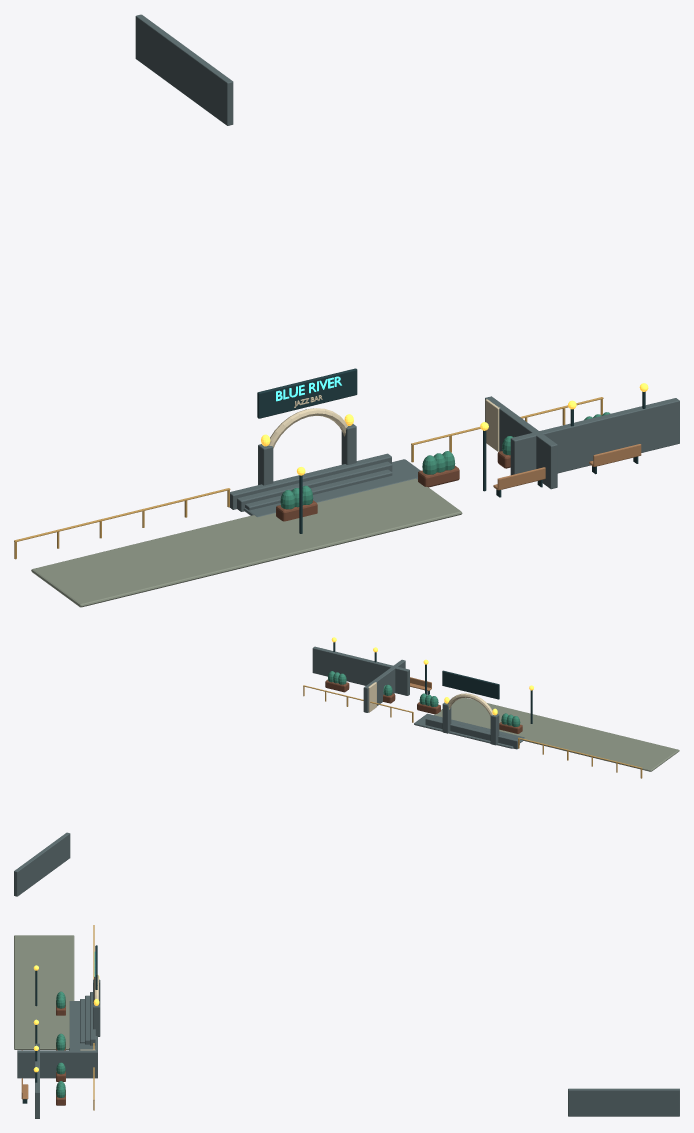
File: riverwalk_static.glb
3 views of the same model, one above another, from view 1: azimuth 30°, elevation 25°; view 2: azimuth 150°, elevation 25°; view 3: azimuth 270°, elevation 25° (orthographic). The views are drawn at different scales.
Visible parts, largest first — view 1: VIS_Riverwalk_Promenade, VIS_Shore_south_hide_wall_ew, VIS_Shore_east_hide_wall, VIS_MoonGate_SignBoard, VIS_Shore_south_hide_wall_ns, VIS_Riverwalk_Terrace, VIS_EntranceStep_02, VIS_EntranceStep_01, VIS_EntranceStep_00; view 2: VIS_Riverwalk_Promenade, VIS_Shore_south_hide_wall_ew, VIS_Shore_east_hide_wall, VIS_MoonGate_SignBoard, VIS_EntranceStep_02, VIS_Shore_south_hide_wall_ns, VIS_Riverwalk_Terrace; view 3: VIS_Riverwalk_Promenade, VIS_Shore_east_hide_wall, VIS_Shore_south_hide_wall_ns, VIS_Riverwalk_Terrace, VIS_Shore_south_hide_wall_ew.
Boxes of the visible parts, box(x1,y1,x2,y2) form: VIS_Riverwalk_Promenade: box(31, 478, 462, 607); VIS_Shore_south_hide_wall_ew: box(510, 398, 679, 475); VIS_Shore_east_hide_wall: box(135, 14, 233, 125); VIS_MoonGate_SignBoard: box(257, 368, 357, 418); VIS_Shore_south_hide_wall_ns: box(485, 396, 557, 489); VIS_Riverwalk_Terrace: box(243, 459, 420, 517); VIS_EntranceStep_02: box(229, 453, 391, 509); VIS_EntranceStep_01: box(237, 461, 392, 511); VIS_EntranceStep_00: box(245, 469, 392, 510); VIS_Riverwalk_Promenade: box(434, 698, 679, 771); VIS_Shore_south_hide_wall_ew: box(312, 646, 409, 695); VIS_Shore_east_hide_wall: box(14, 832, 70, 896); VIS_MoonGate_SignBoard: box(442, 670, 499, 699); VIS_EntranceStep_02: box(425, 717, 517, 749); VIS_Shore_south_hide_wall_ns: box(363, 659, 405, 712); VIS_Riverwalk_Terrace: box(414, 713, 524, 748); VIS_Riverwalk_Promenade: box(14, 935, 74, 1049); VIS_Shore_east_hide_wall: box(568, 1088, 679, 1116); VIS_Shore_south_hide_wall_ns: box(17, 1050, 97, 1078); VIS_Riverwalk_Terrace: box(69, 1001, 97, 1050); VIS_Shore_south_hide_wall_ew: box(35, 1043, 39, 1118).
Size of the model in its own units: 38.7 by 6.37 by 59.5.
